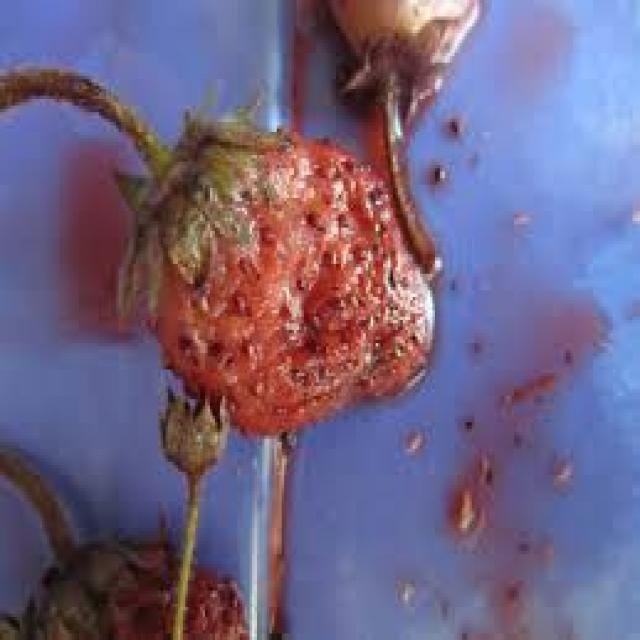organic waste: (109, 72, 430, 429), (309, 0, 479, 274), (2, 504, 244, 636)
